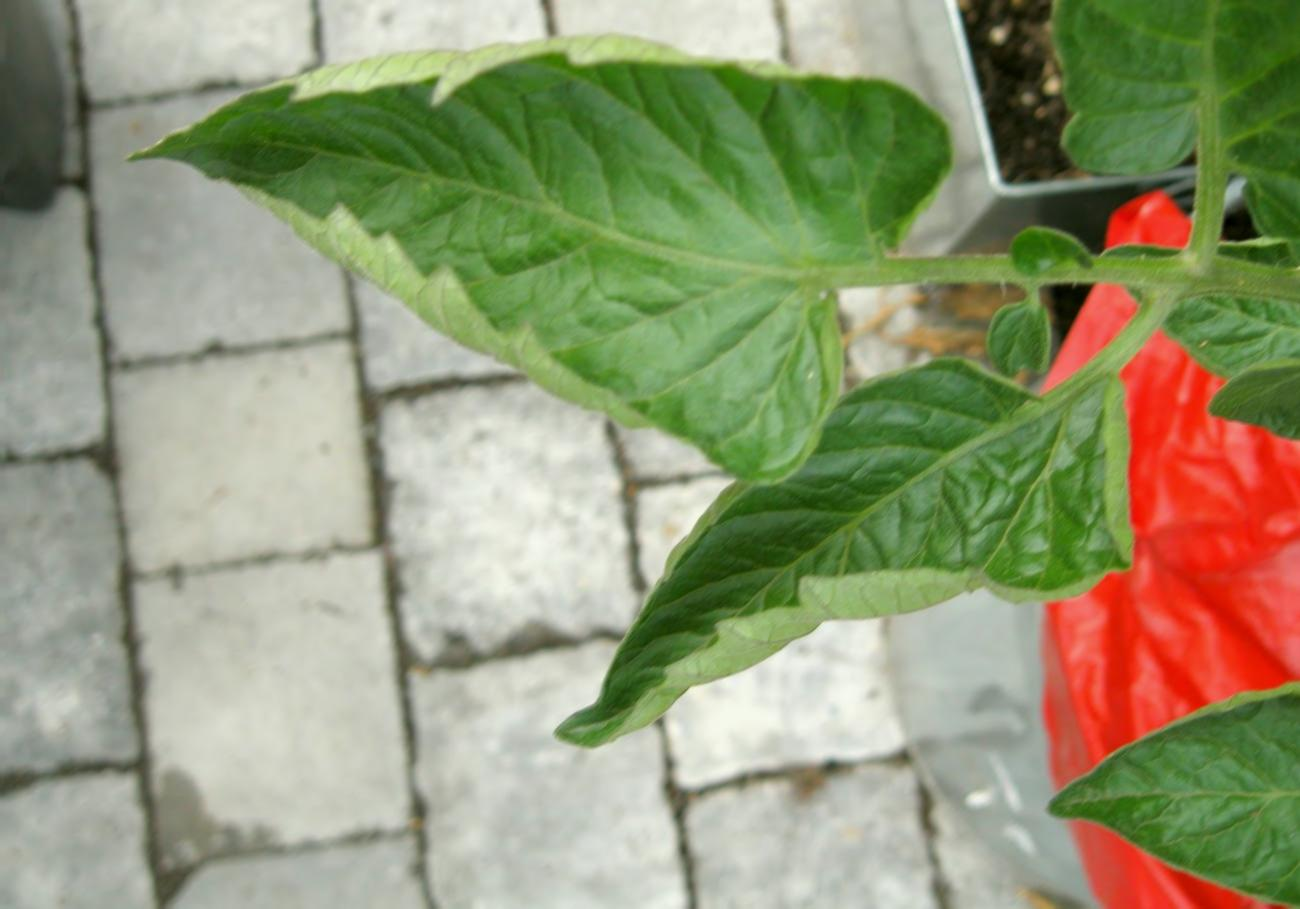Tomato leaf: (164, 49, 953, 485), (547, 343, 1153, 800), (1042, 0, 1300, 262)
